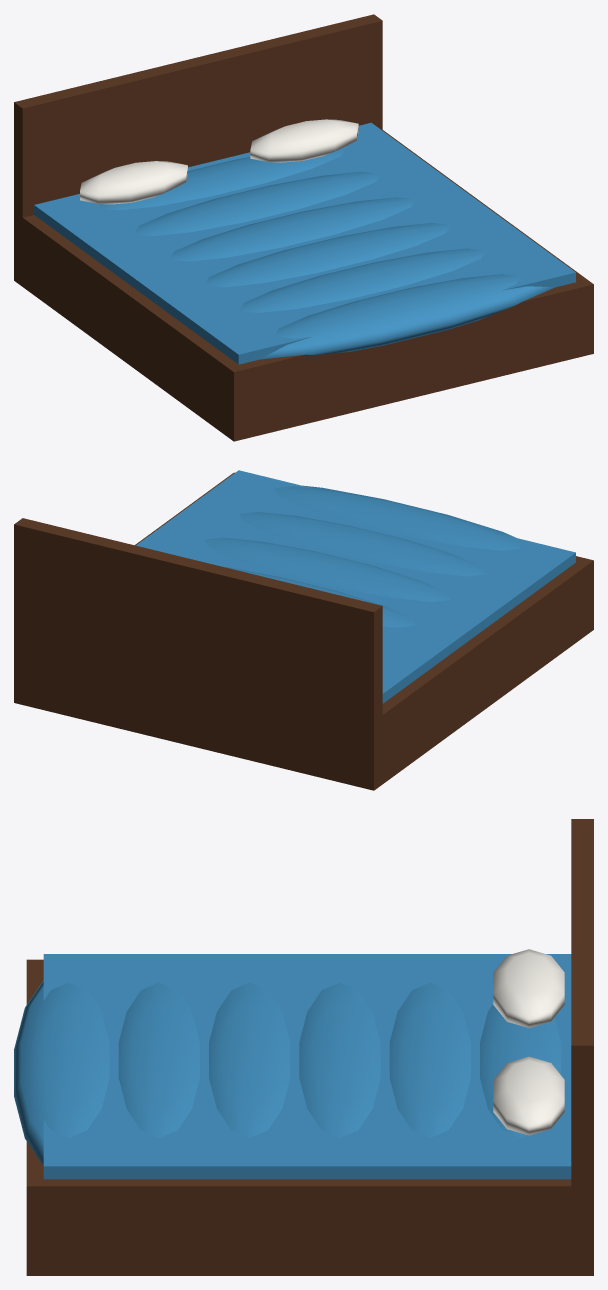
File: bed_water.glb
The picture shows the model from 3 angles, top to bottom: view 1: azimuth 30°, elevation 25°; view 2: azimuth 150°, elevation 25°; view 3: azimuth 270°, elevation 25°; orthographic projection. The views are drawn at different scales.
Visible parts, largest first — view 1: water_bed; view 2: water_bed; view 3: water_bed.
Part boxes in pixels (<box>): water_bed: <box>14,14,593,441</box>; water_bed: <box>14,470,593,790</box>; water_bed: <box>14,819,593,1275</box>.
Size of the model in its own units: 1.9 by 0.9 by 2.05.
